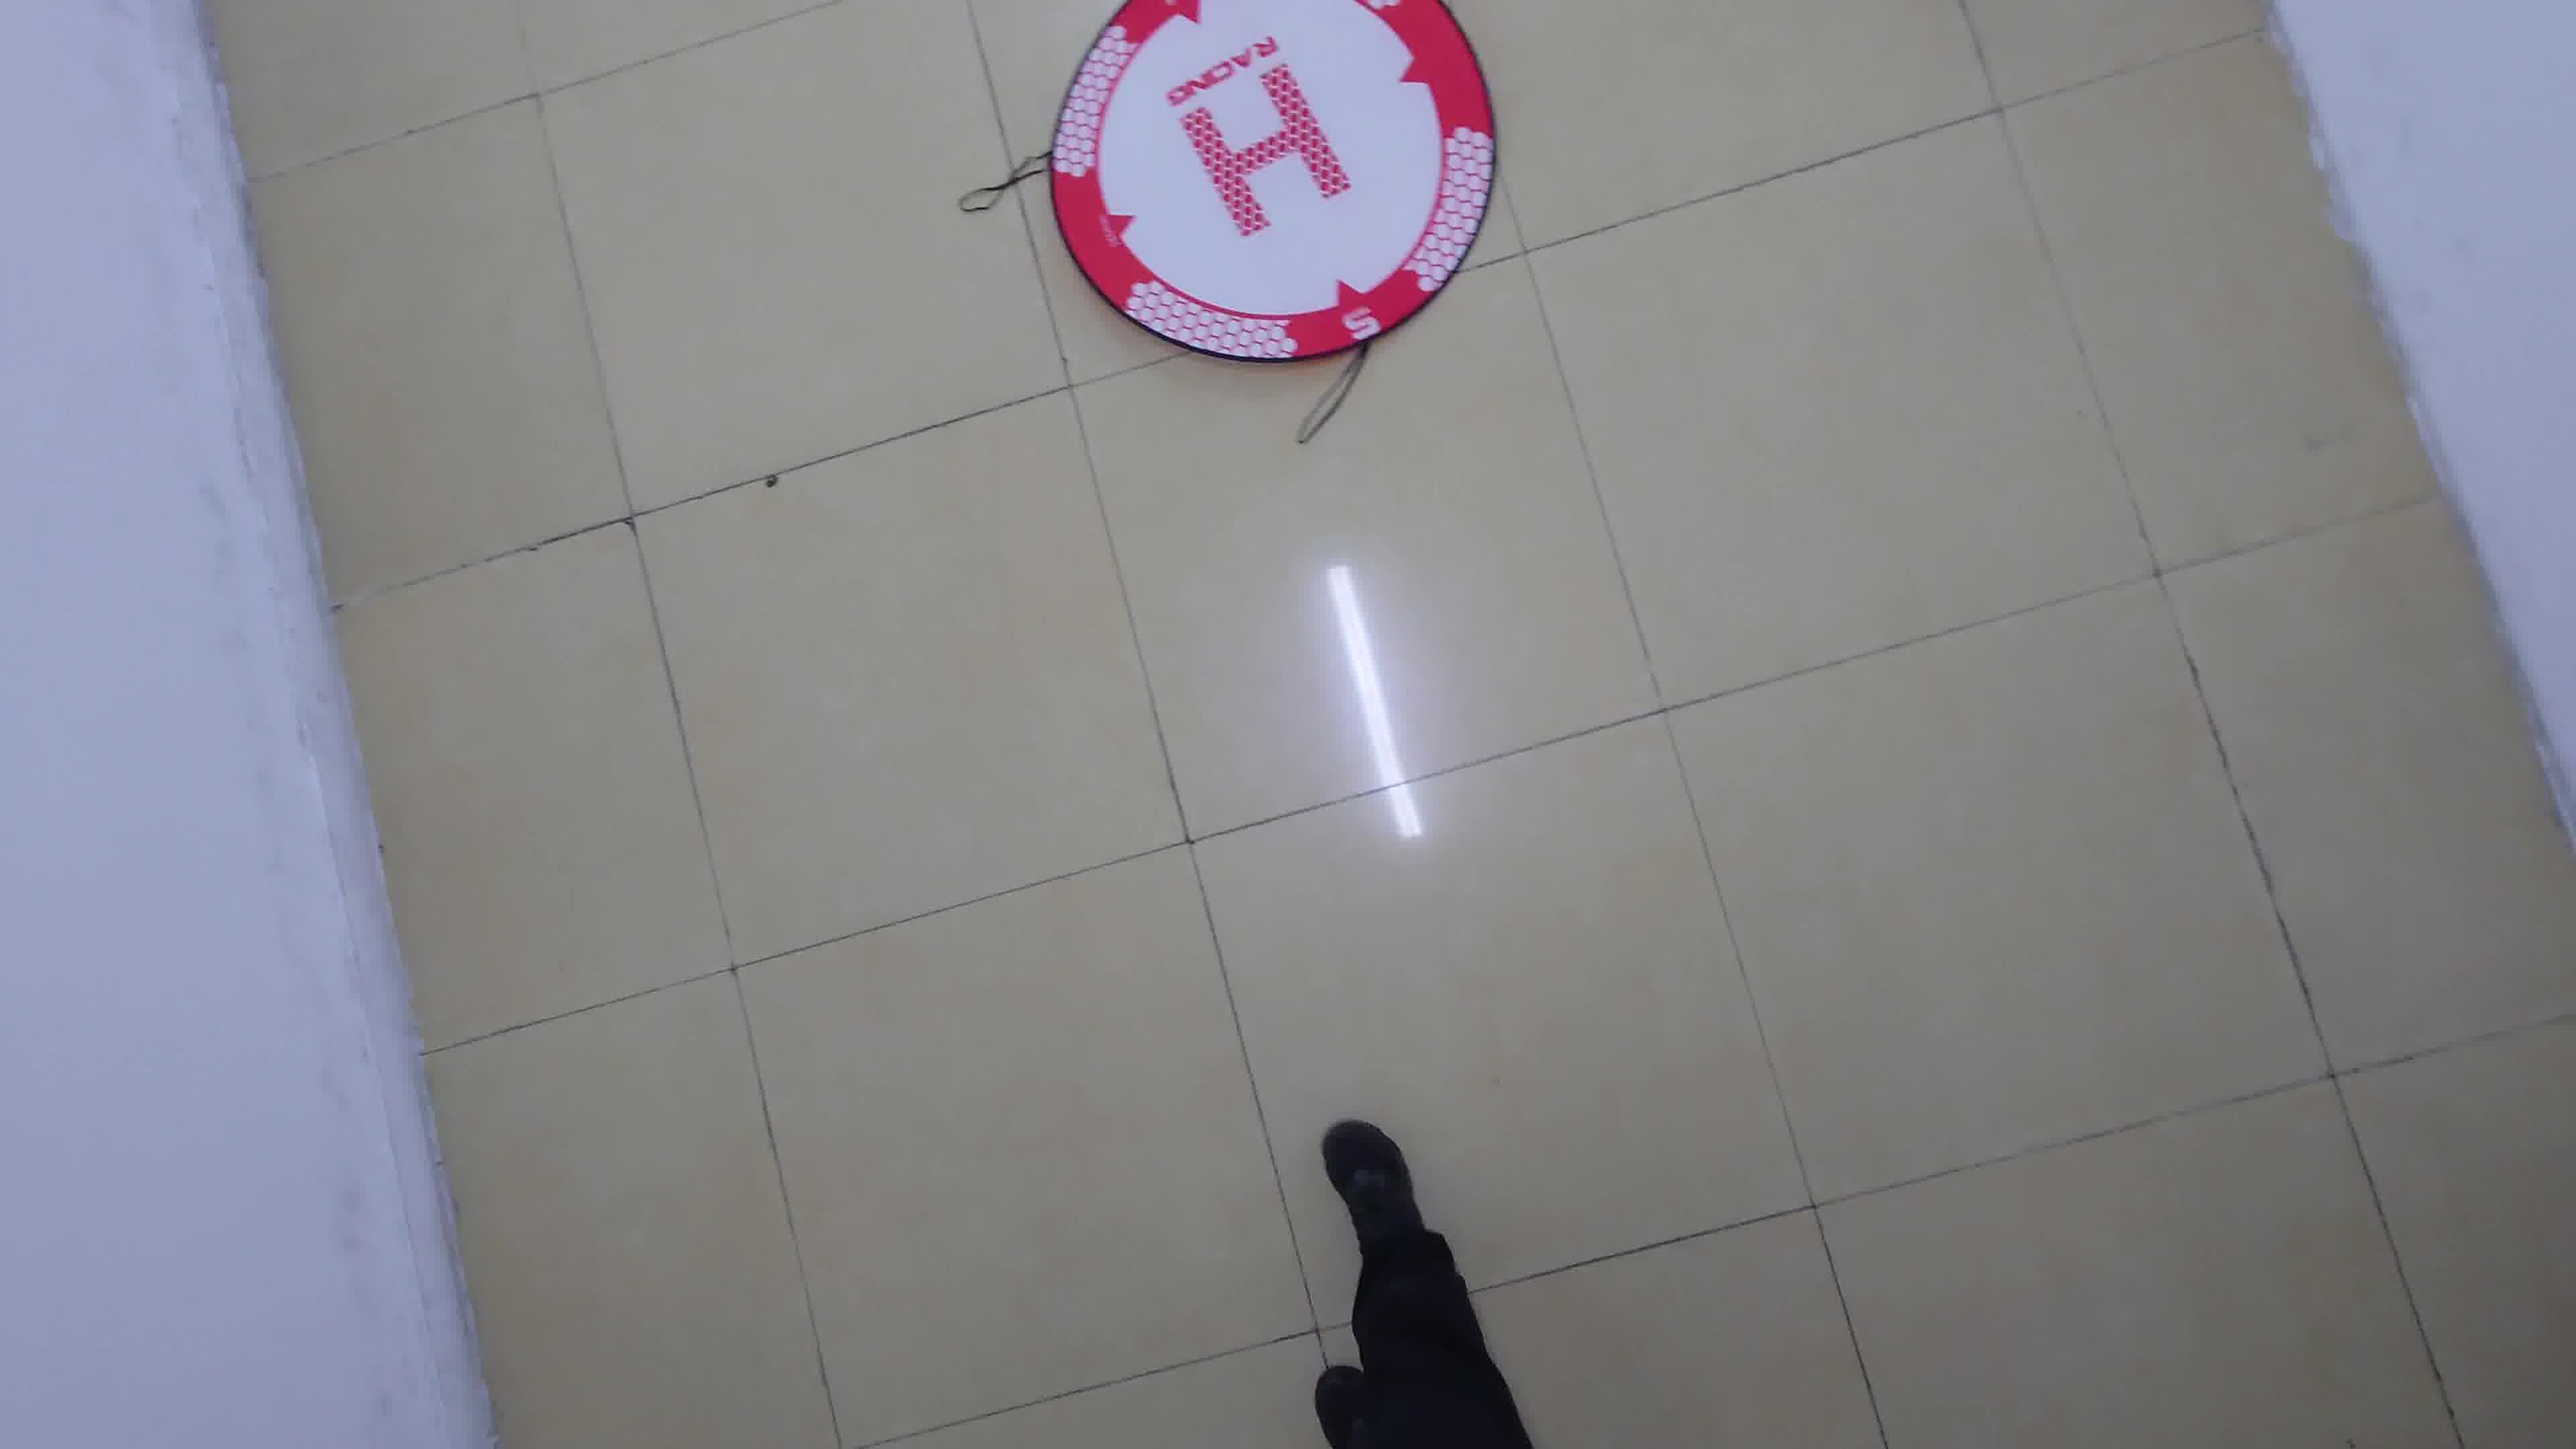H: (1178, 62, 1353, 237)
